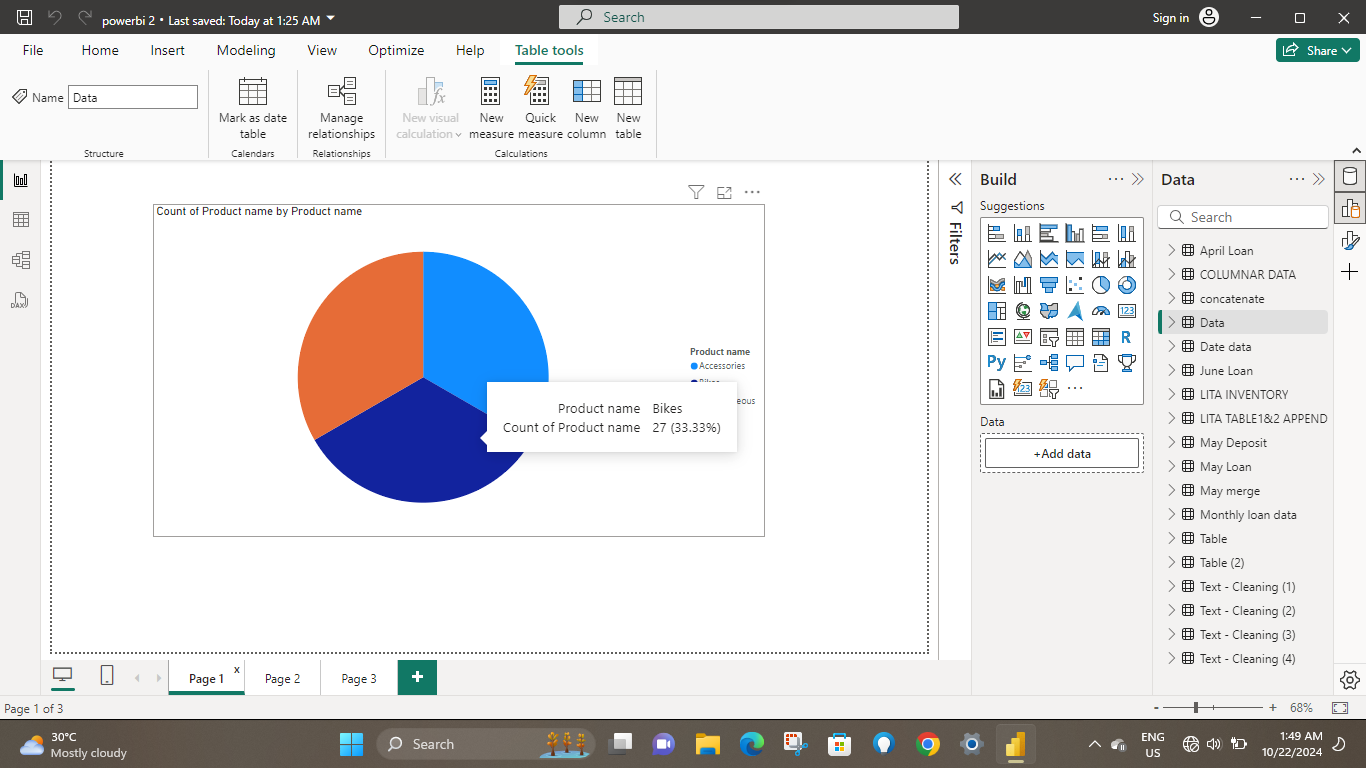

Layout of this report page (visuals, bound fields, positions):
{"tool":"powerbi","page":{"name":"Page 1","canvas":[1280,720],"ordinal":0},"visuals":[{"type":"pieChart","fields":{"Y":["CountNonNull(COLUMNAR DATA.Product name)"],"Category":["COLUMNAR DATA.Product name"]},"box":[147.5,63.7,895.8,488],"z":0}]}

Visuals, with their boxes on the page's 1280x720 design canvas (x1, y1, x2, y2). These are canvas units, not pixel positions in the 1366x768 screenshot, which may show the page scaled, cropped or inside an application window:
pieChart - CountNonNull(COLUMNAR DATA.Product name) x COLUMNAR DATA.Product name: box(148, 64, 1043, 552)
